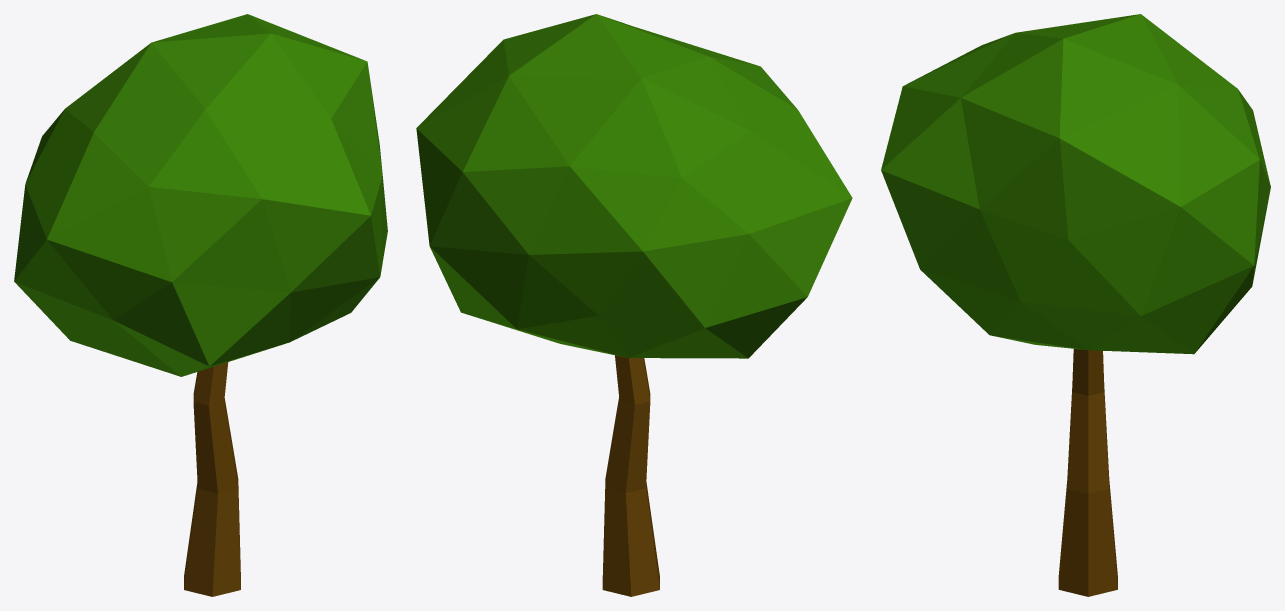
Rendered from tree3.fbx.
The picture shows the model from 3 angles, left to right: view 1: azimuth 30°, elevation 25°; view 2: azimuth 150°, elevation 25°; view 3: azimuth 270°, elevation 25°; orthographic projection. The views are drawn at different scales.
Visible parts, largest first — view 1: Tree3, treeTrunk; view 2: Tree3, treeTrunk; view 3: Tree3, treeTrunk.
Boxes of the visible parts, x1,y1,x2,y2 form: Tree3: (14, 14, 387, 376); treeTrunk: (184, 362, 240, 596); Tree3: (416, 14, 852, 358); treeTrunk: (602, 355, 659, 596); Tree3: (881, 14, 1270, 354); treeTrunk: (1058, 349, 1117, 596).
Size of the model in its own units: 7.86 by 11.08 by 6.9.
